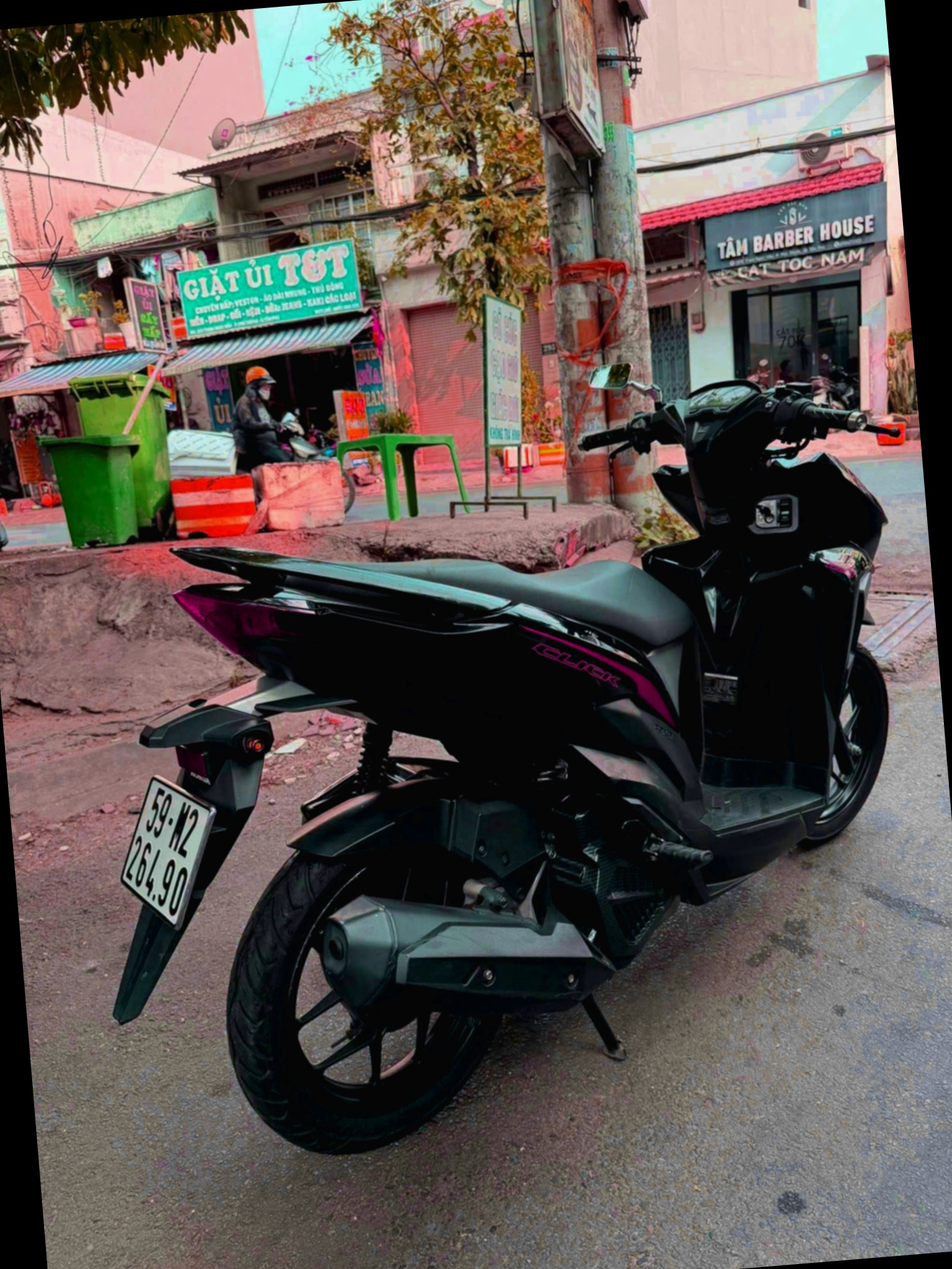Bien-so: (108, 768, 225, 943)
